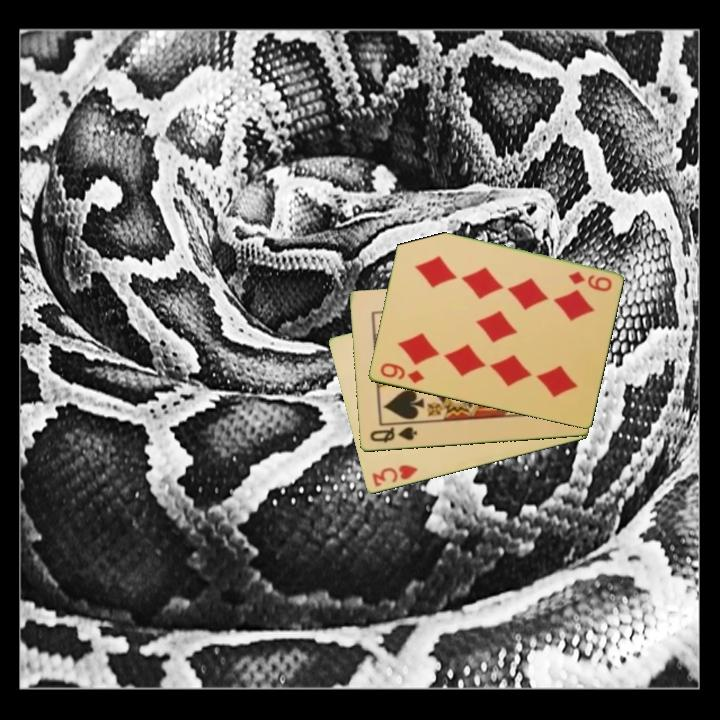3h: (368, 462, 420, 490)
9d: (376, 359, 427, 387), (564, 268, 614, 295)
Qs: (366, 423, 420, 446)
